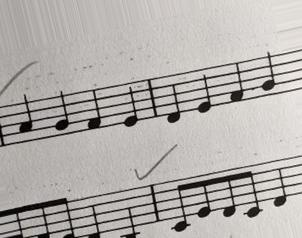A: (13, 92, 35, 142)
D: (164, 76, 182, 125), (273, 162, 289, 209)
E: (122, 82, 140, 130), (195, 68, 213, 116)
F: (83, 86, 104, 133), (229, 60, 245, 106)
G: (53, 90, 72, 137), (258, 51, 277, 95)
